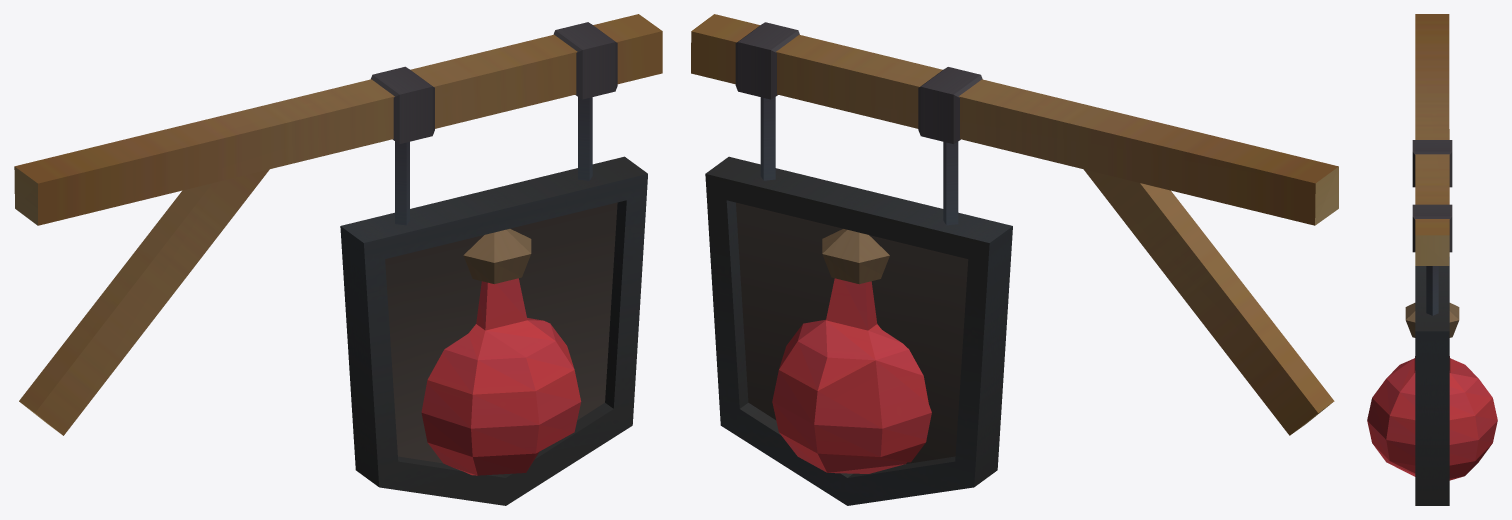
The model's file is SignBoard_5_LOD1.fbx.
3 renders of one model, left to right at view 1: azimuth 30°, elevation 25°; view 2: azimuth 150°, elevation 25°; view 3: azimuth 270°, elevation 25°, orthographic. The views are drawn at different scales.
Parts seen in each view (by area): view 1: polySurface10654; view 2: polySurface10654; view 3: polySurface10654.
Boxes of the visible parts, x1,y1,x2,y2 form: polySurface10654: (14,14,662,505); polySurface10654: (691,14,1338,505); polySurface10654: (1367,14,1497,505).
Bounding box in the file's own units: 308 × 207 × 76.79.
